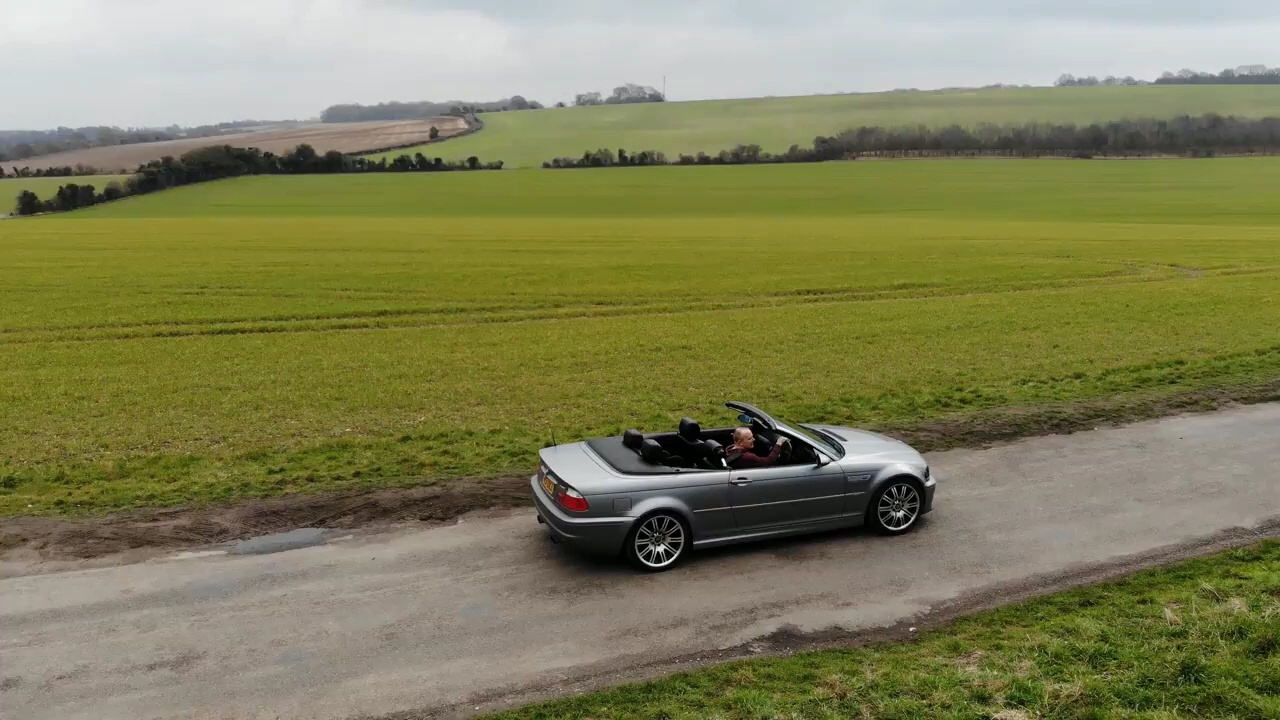araba: (531, 401, 940, 576)
